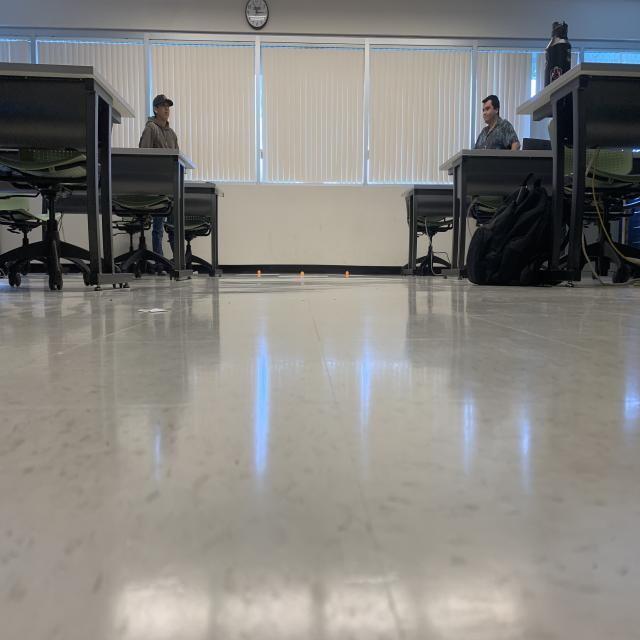ping-pong-ball: (300, 271, 304, 277), (257, 270, 261, 274), (346, 270, 348, 276)
